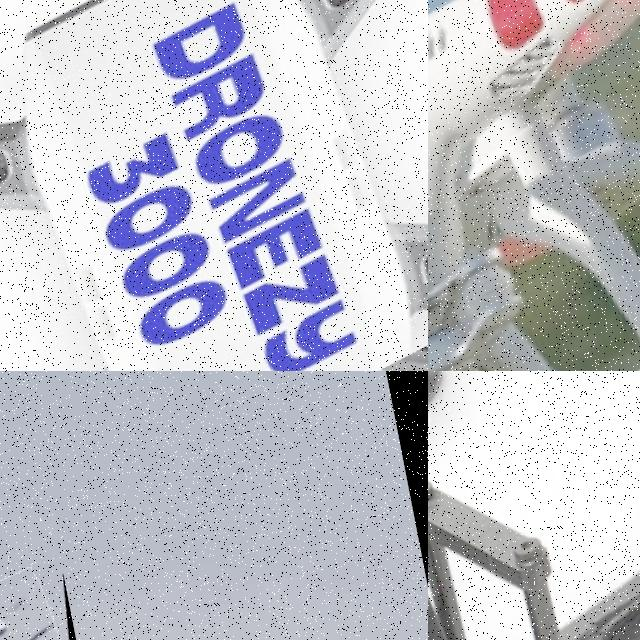drone: (0, 0, 428, 371), (428, 0, 640, 371), (428, 371, 640, 640)
